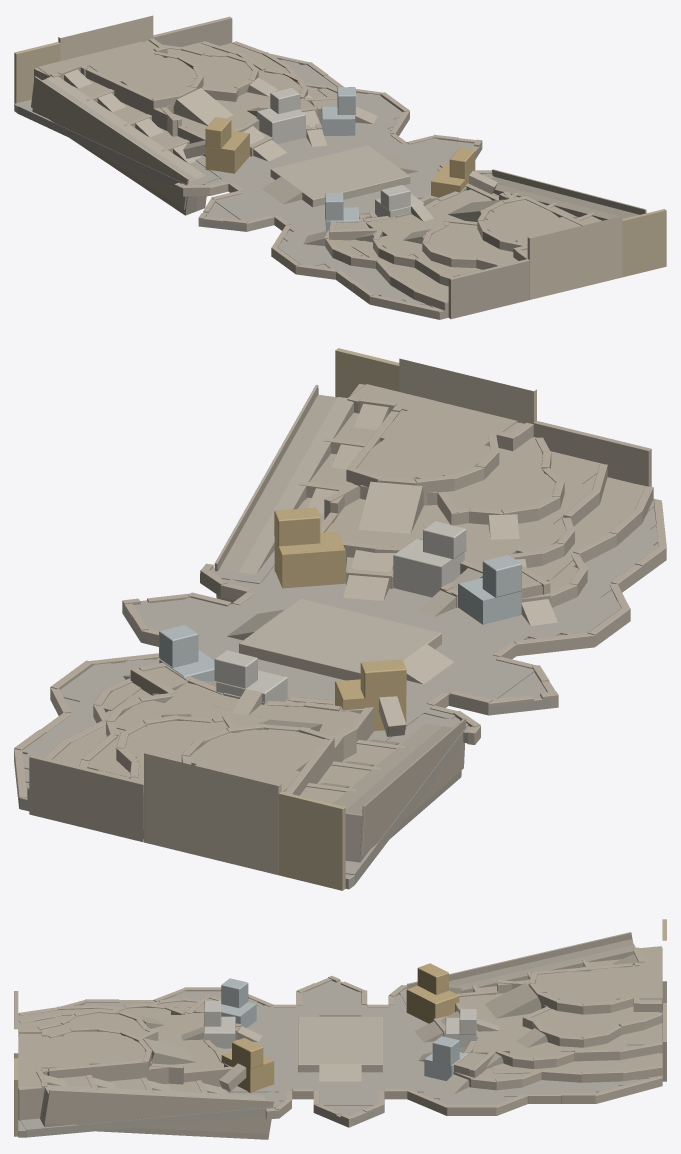
Rendered from terraces_zones_level.glb.
The picture shows the model from 3 angles, top to bottom: view 1: azimuth 30°, elevation 25°; view 2: azimuth 150°, elevation 25°; view 3: azimuth 270°, elevation 25°; orthographic projection. The views are drawn at different scales.
Parts seen in each view (by area): view 1: PaintableStage; view 2: PaintableStage; view 3: PaintableStage.
Boxes of the visible parts, left/top/right/bottom form: PaintableStage: left=14, top=15, right=666, bottom=319; PaintableStage: left=14, top=348, right=666, bottom=890; PaintableStage: left=14, top=919, right=666, bottom=1139.
Size of the model in its own units: 54.36 by 13.53 by 92.
